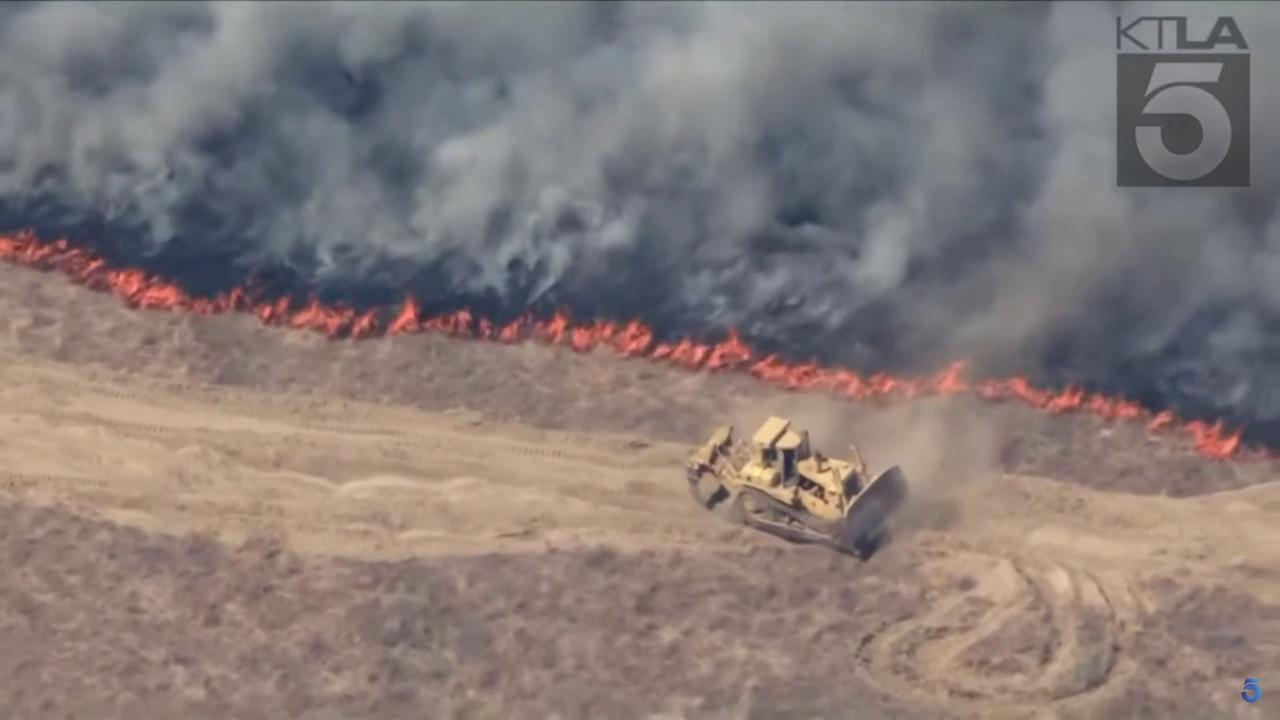fire: (0, 223, 1245, 460)
smoke: (0, 0, 1280, 436)
